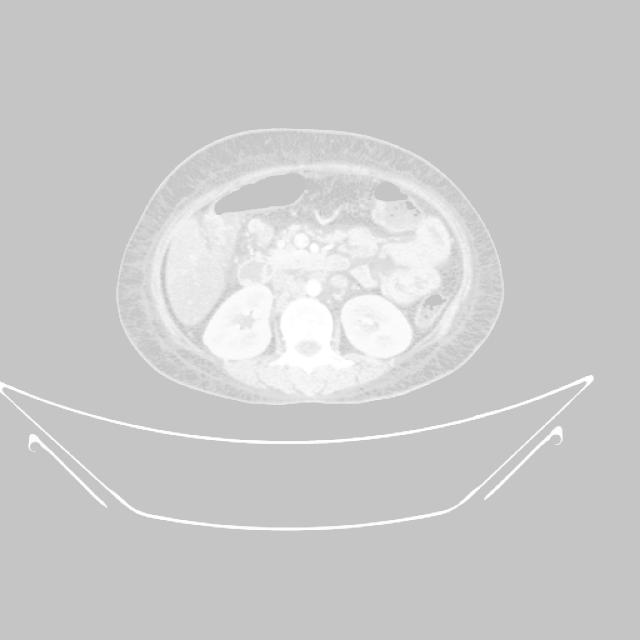NORMAL: (120, 122, 506, 398)
